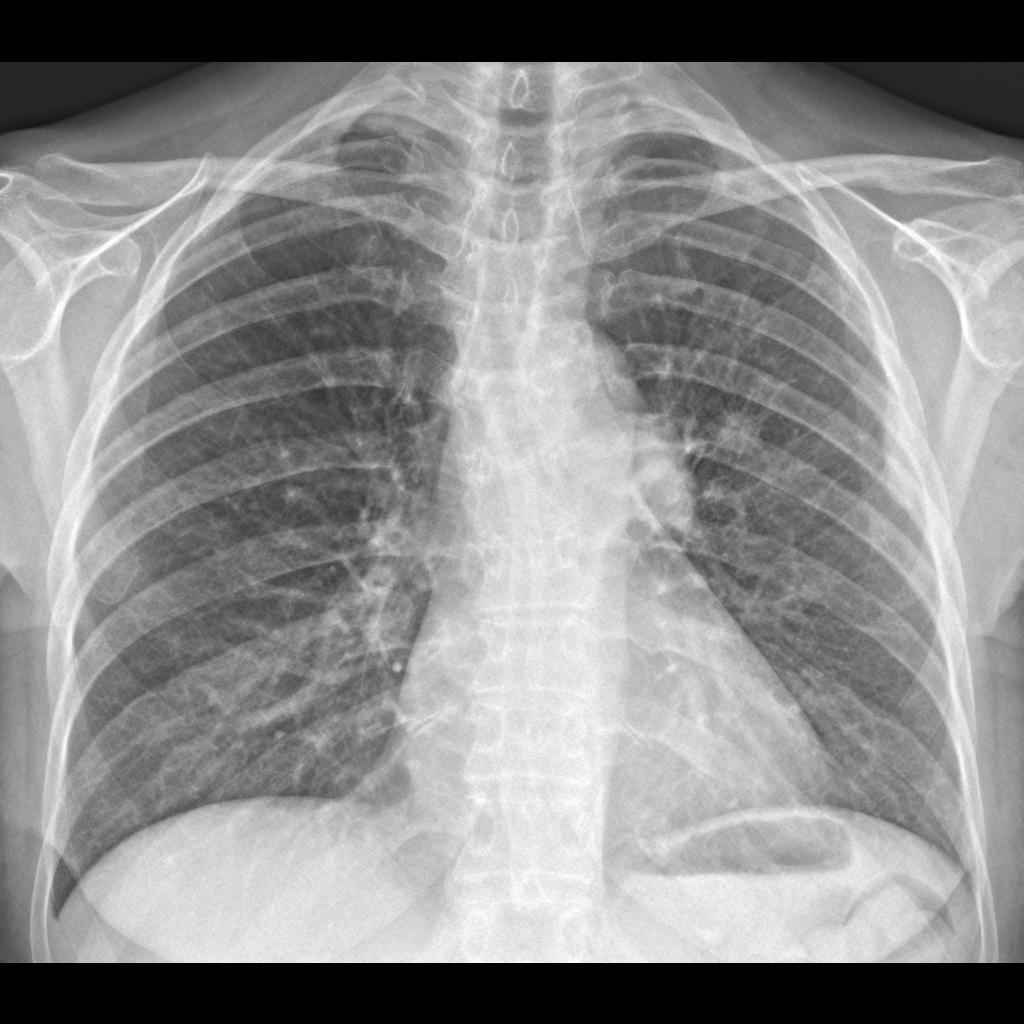Nodule: (696, 396, 766, 462)
